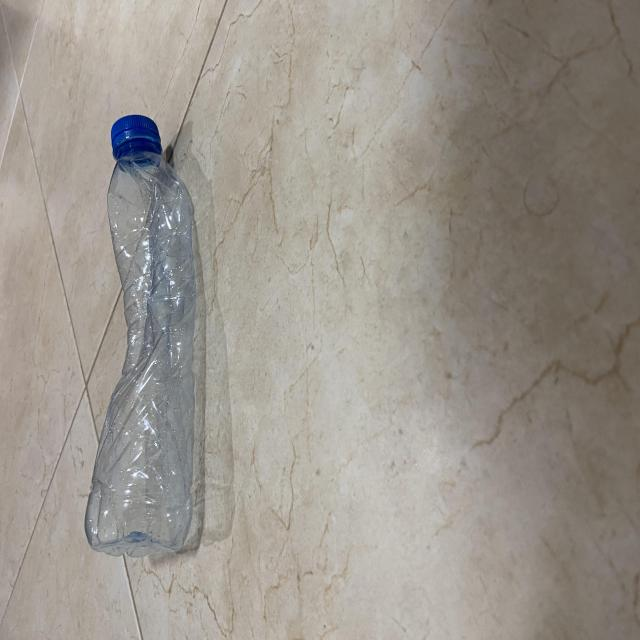plastic: (80, 110, 199, 560)
